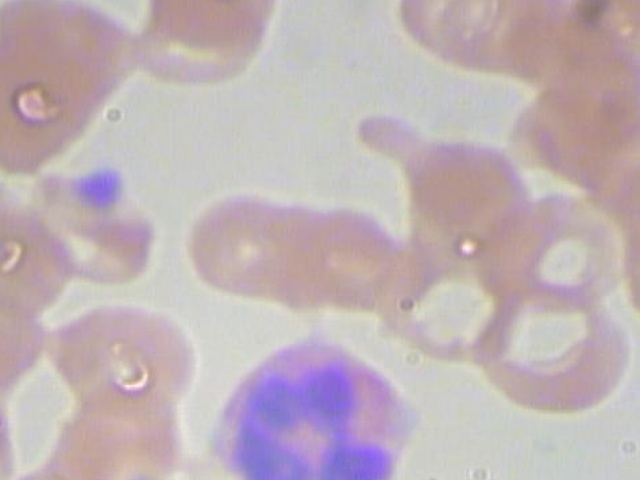Platelets: (73, 160, 134, 206)
RBC: (0, 0, 146, 179), (464, 274, 640, 417), (373, 238, 528, 369), (476, 184, 632, 314), (179, 180, 330, 312), (46, 287, 196, 419), (0, 181, 86, 313), (140, 0, 289, 52)
WBC: (194, 334, 427, 480)
